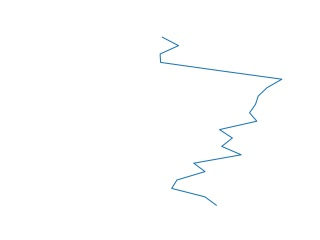floodPlain: (157, 36, 285, 208)
